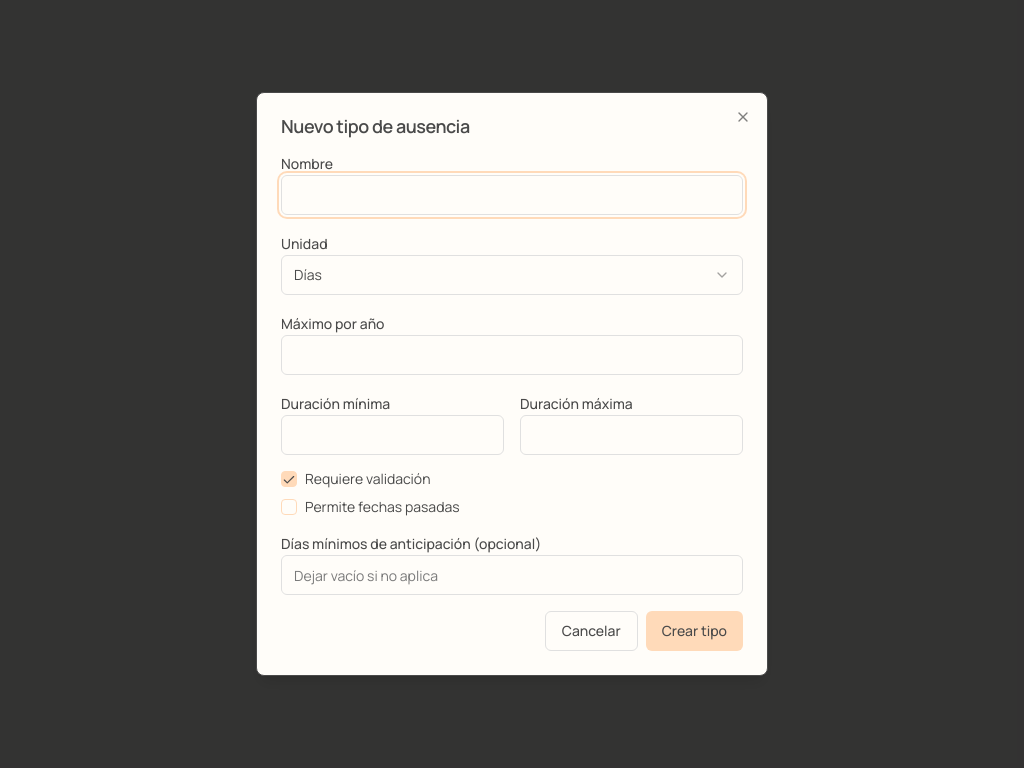
Scenario: AbsenceTypeFormDialog: modo crear › muestra error si maxDuration < minDuration
Type "Test" into the field labelled "Nombre".
click(512, 195); type("Test")  # box [281,175,743,215]
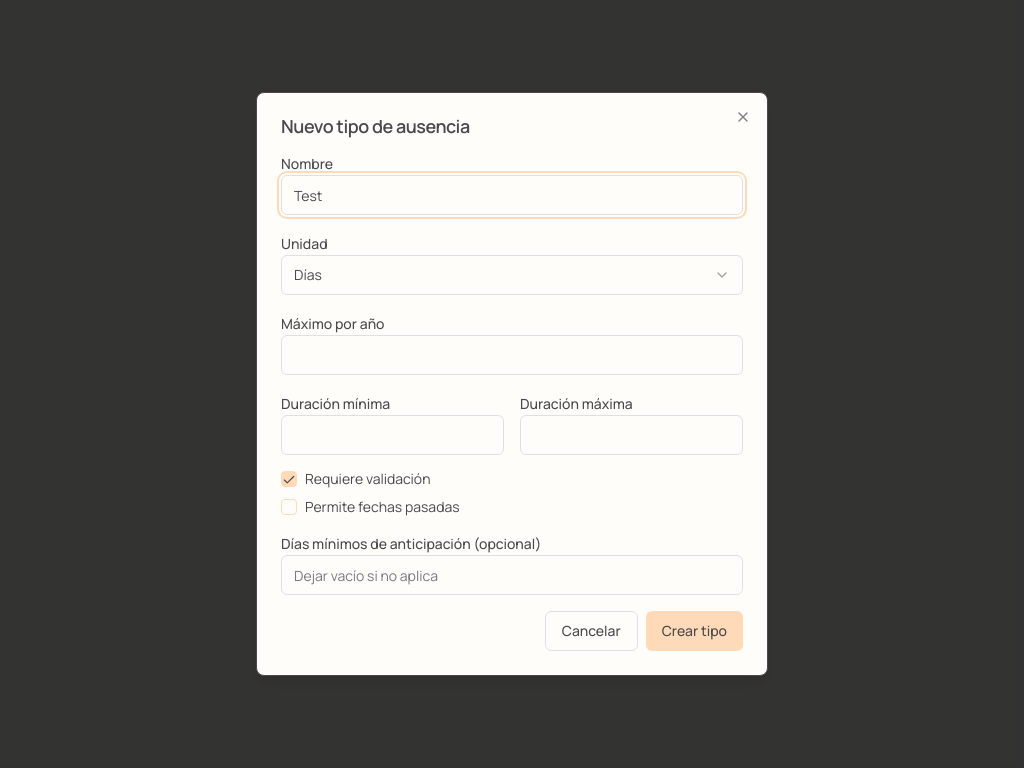
Type "30" into the number field labelled "Máximo por año".
click(512, 355); type("30")  # box [281,335,743,375]
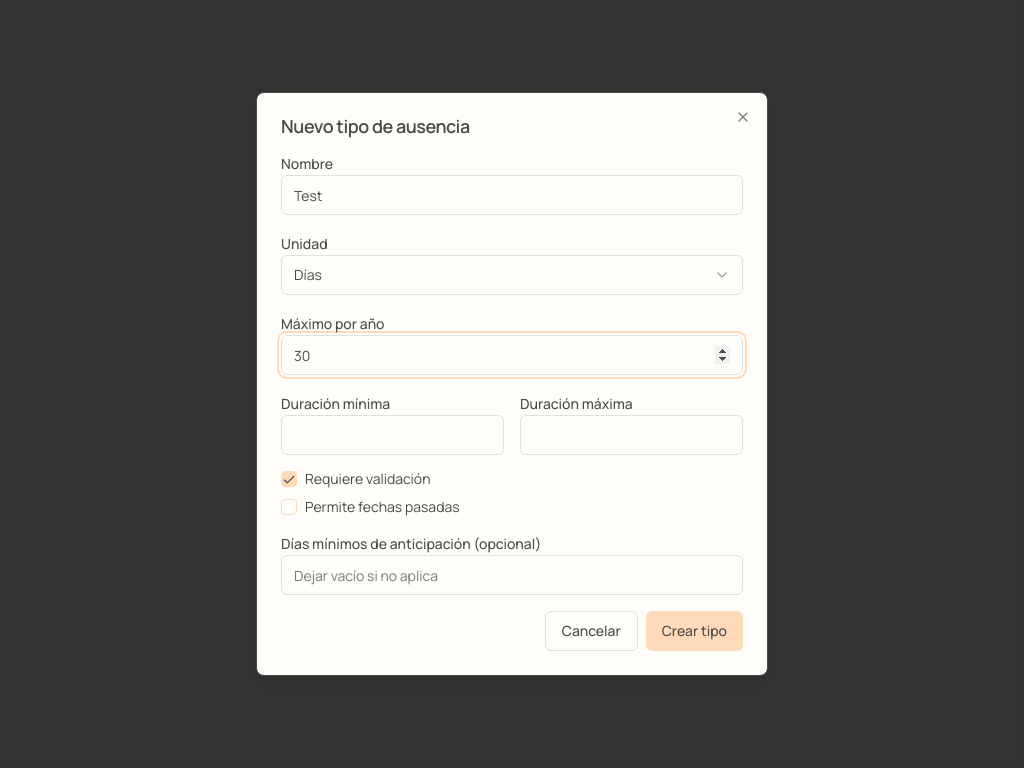
Type "10" into the number field labelled "Duración mínima".
click(392, 435); type("10")  # box [281,415,504,455]
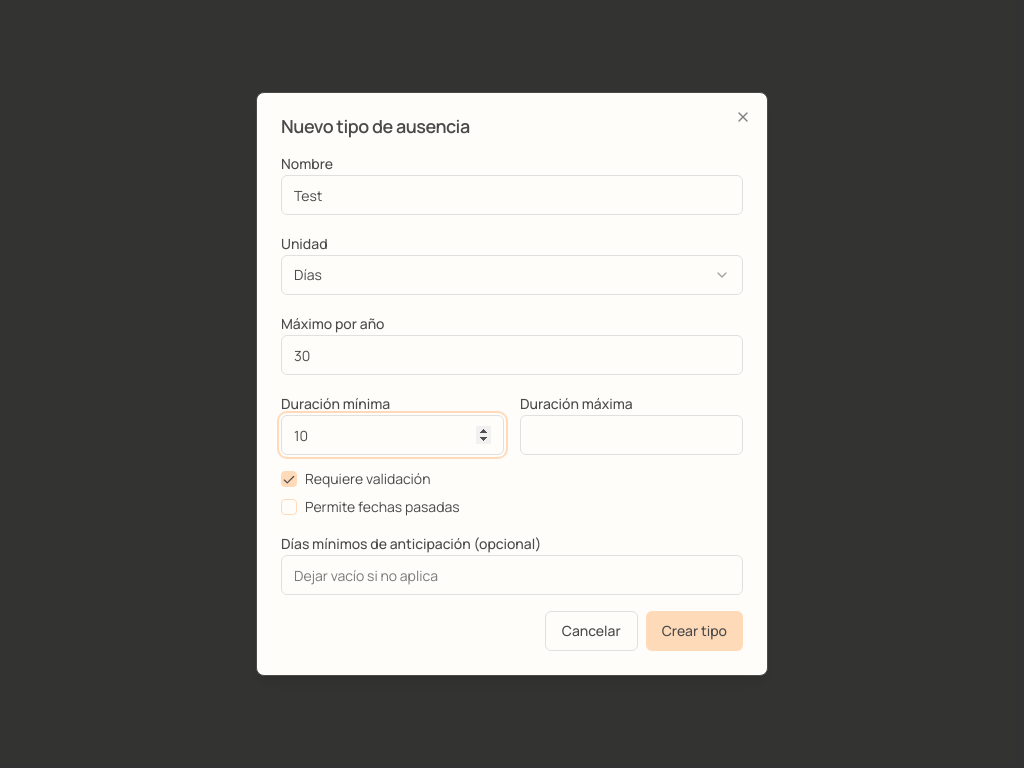
Type "5" into the number field labelled "Duración máxima".
click(632, 435); type("5")  # box [520,415,743,455]
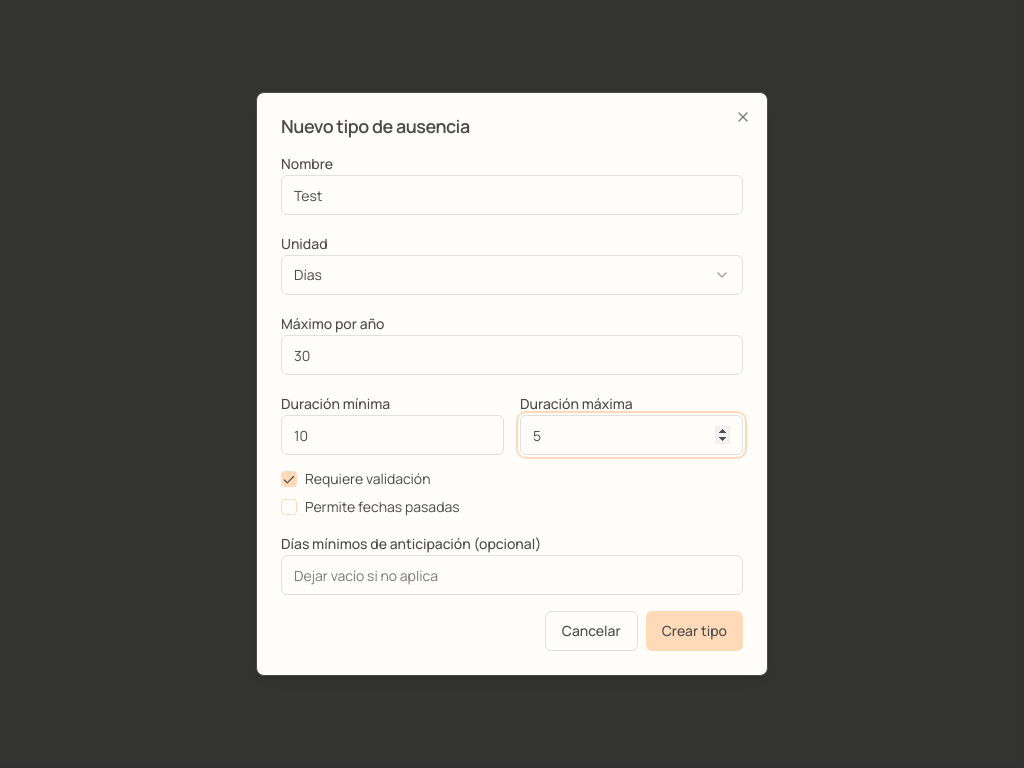
Click the button "Crear tipo".
click(694, 631)  # box [646,611,743,651]
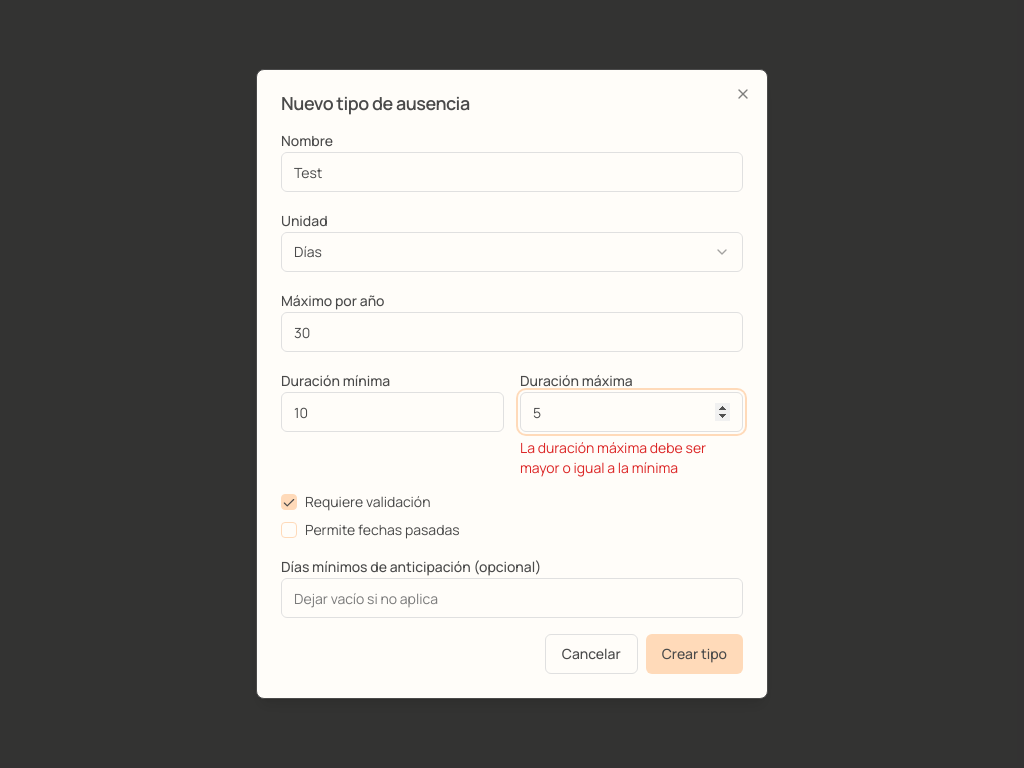
expect the text "La duración máxima debe ser mayor o igual a la mínima" is shown: met, box [520,438,706,477]
